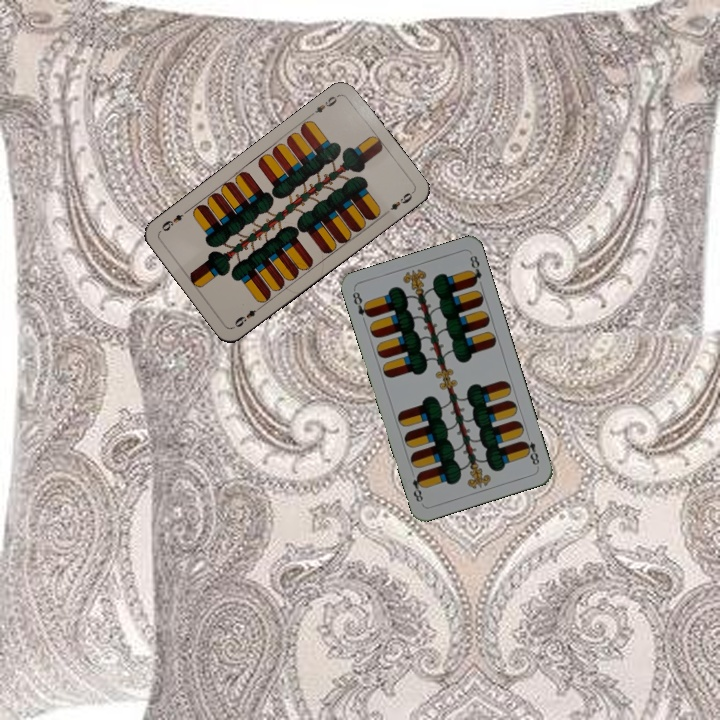E8: (519, 430, 542, 468), (348, 288, 374, 320)
E9: (230, 301, 265, 330), (306, 91, 342, 119)
